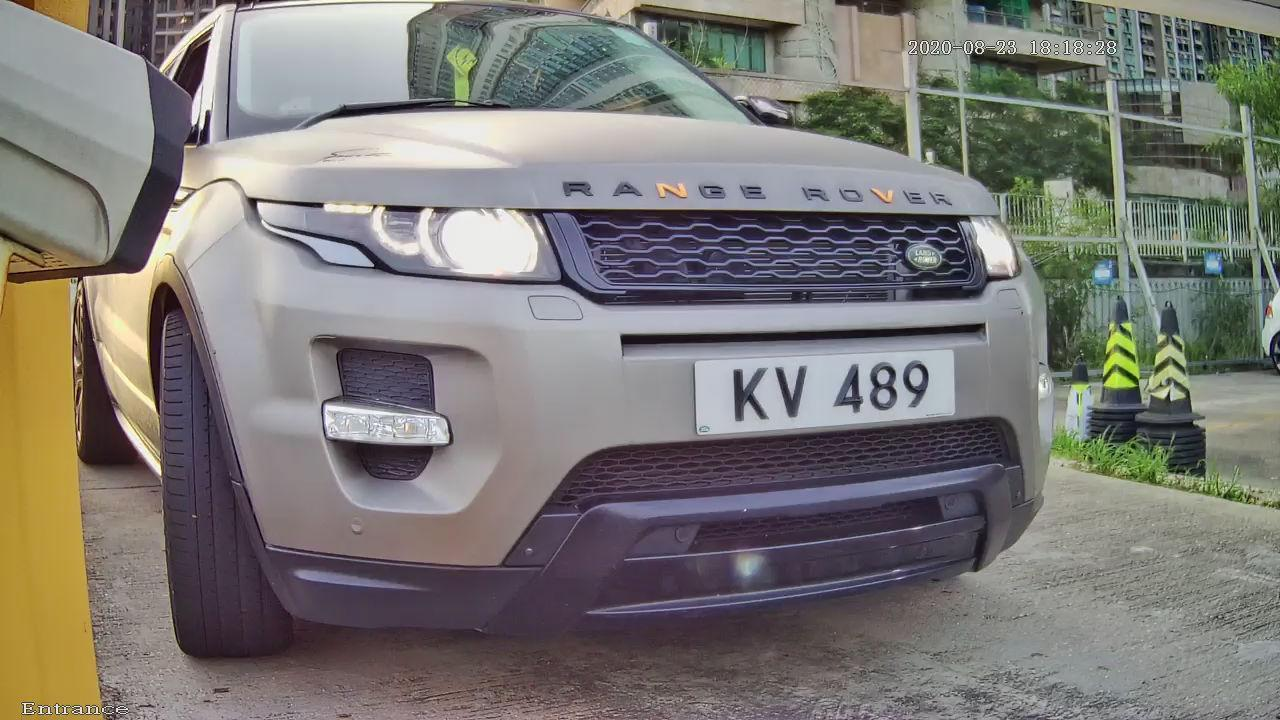Car: (29, 10, 1138, 676)
License Plate: (645, 284, 1018, 483)
